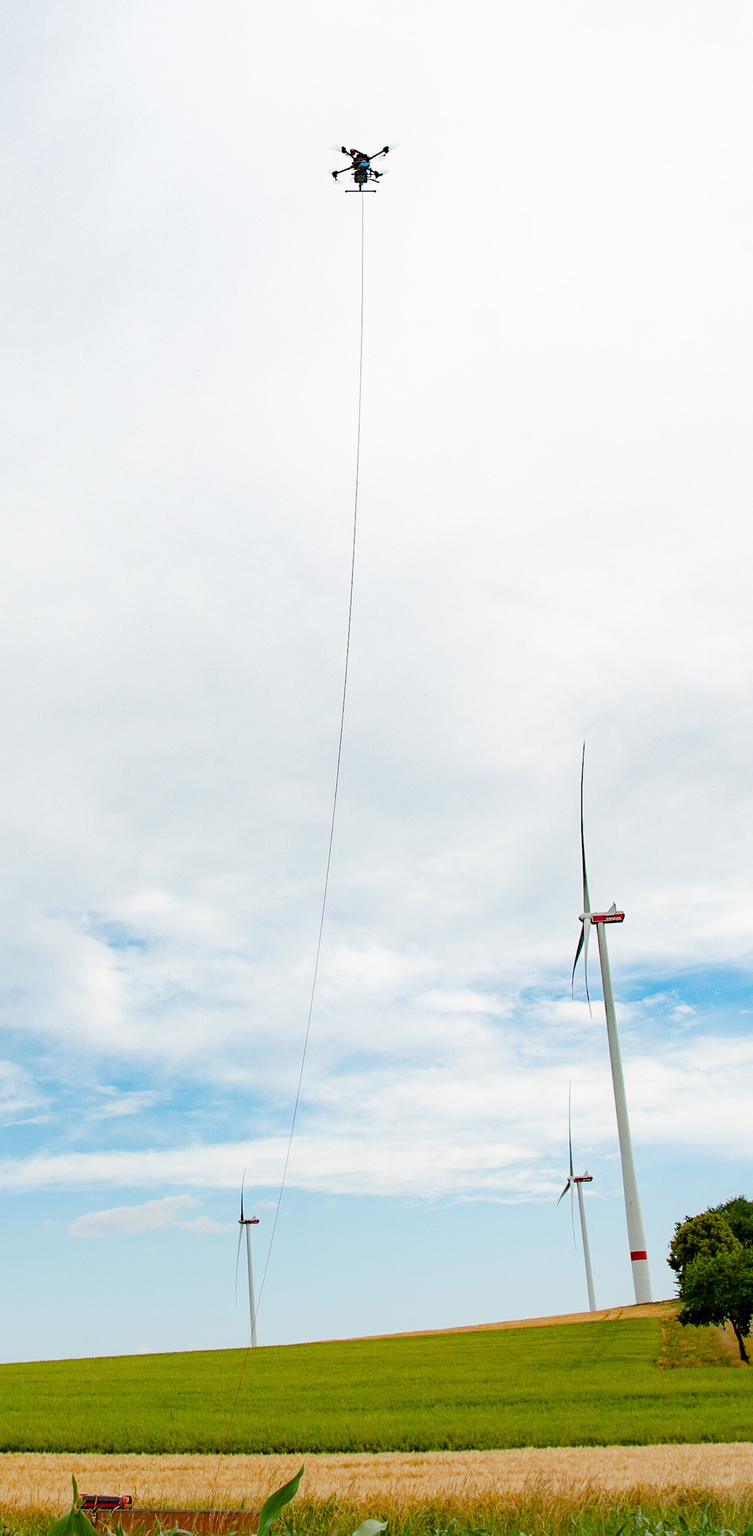drone: (330, 131, 399, 200)
